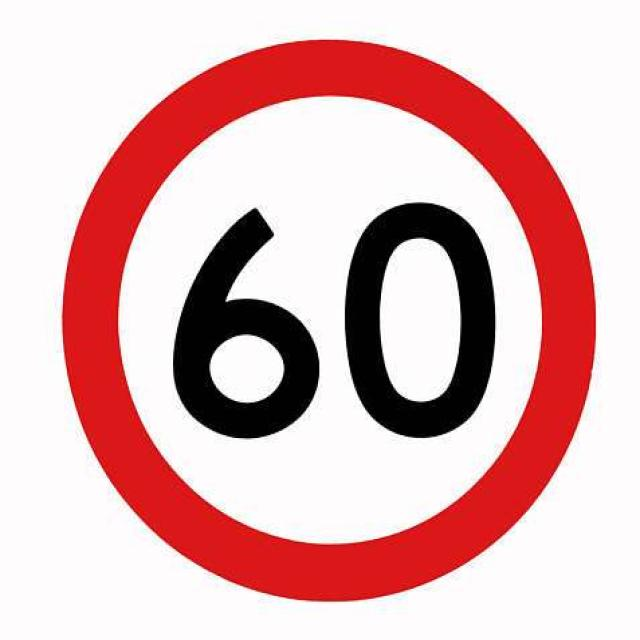speed limit 60: (55, 38, 598, 606)
